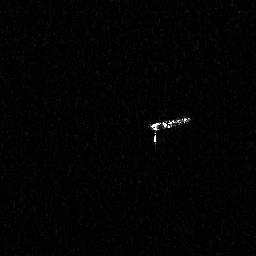ship: (148, 114, 193, 152)
